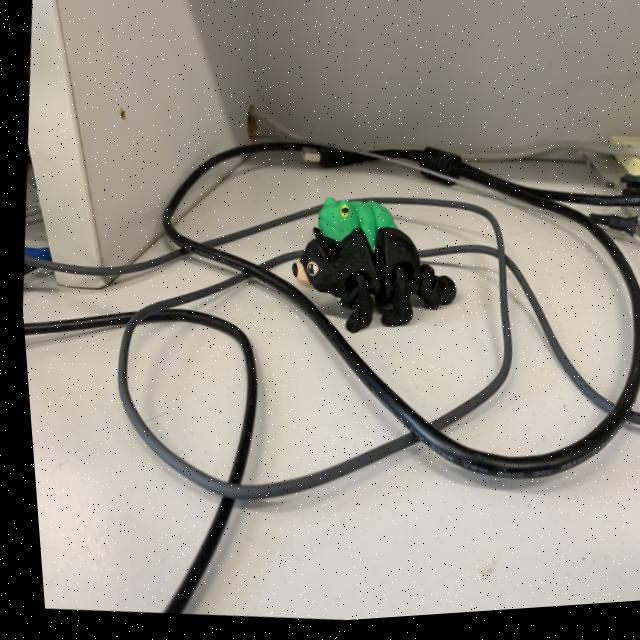frog: (308, 185, 404, 257)
tassie devil: (277, 210, 474, 350)
